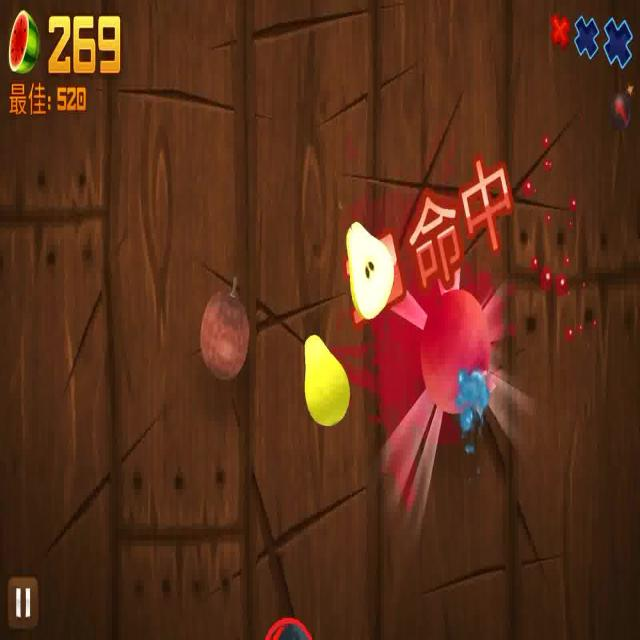bomb: (262, 615, 322, 640)
fruit: (420, 288, 496, 413), (198, 284, 250, 384), (343, 220, 392, 322), (300, 332, 348, 425)
